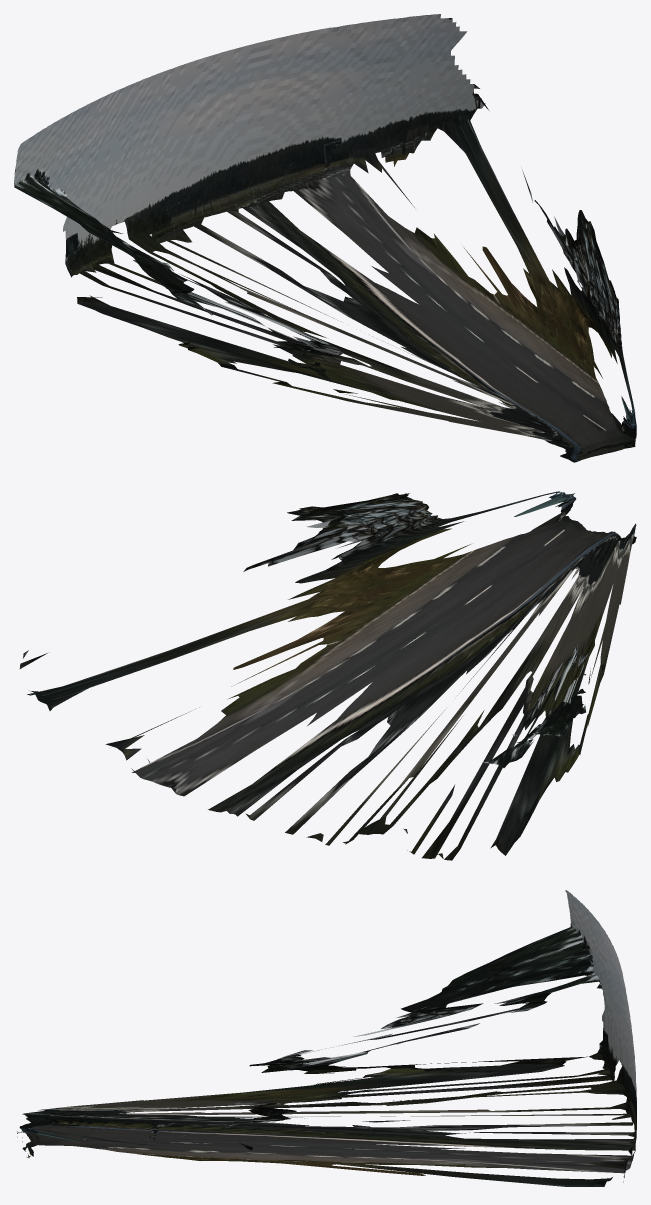
3 renders of one model, top to bottom at view 1: azimuth 30°, elevation 25°; view 2: azimuth 150°, elevation 25°; view 3: azimuth 270°, elevation 25°, orthographic. The views are drawn at different scales.
Visible parts, largest first — view 1: defaultobject; view 2: defaultobject; view 3: defaultobject.
Boxes of the visible parts, x1=… form: defaultobject: x1=14, y1=14, x2=636, y2=462; defaultobject: x1=19, y1=491, x2=636, y2=860; defaultobject: x1=17, y1=890, x2=636, y2=1186.
Size of the model in its own units: 35.94 by 12.82 by 45.05.
Materials: 1 (1 with a texture image).
